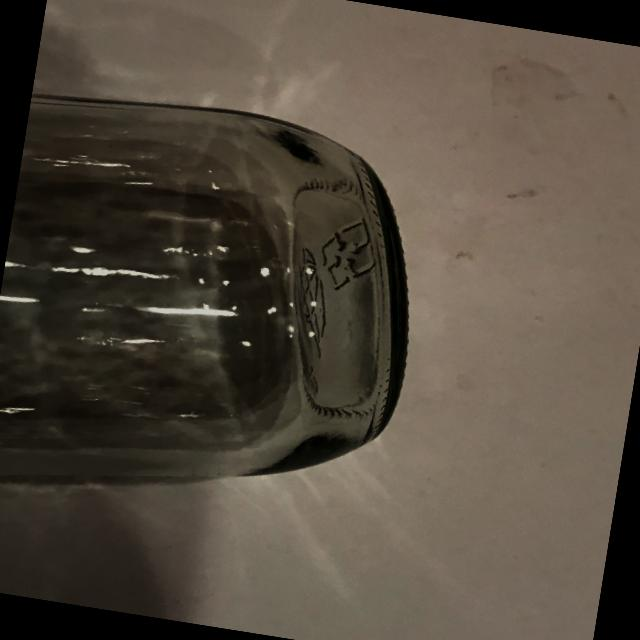Glass: (0, 61, 446, 556)
